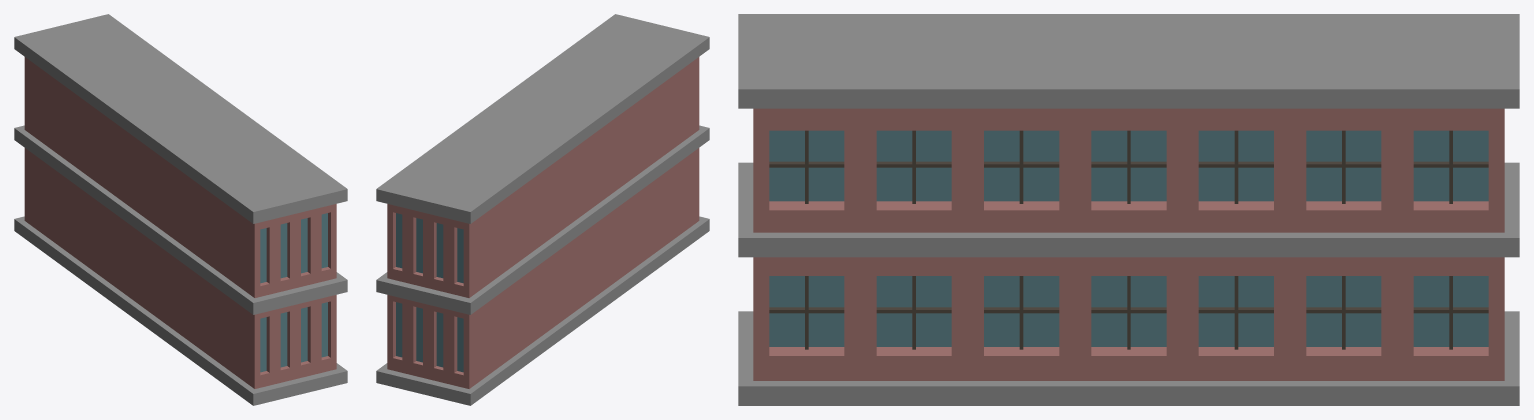
The model's file is Apartment4.fbx.
The picture shows the model from 3 angles, left to right: view 1: azimuth 30°, elevation 25°; view 2: azimuth 150°, elevation 25°; view 3: azimuth 270°, elevation 25°; orthographic projection. The views are drawn at different scales.
Visible parts, largest first — view 1: Apartment4; view 2: Apartment4; view 3: Apartment4.
Boxes of the visible parts, left/top/right/bottom form: Apartment4: left=14, top=14, right=347, bottom=405; Apartment4: left=376, top=14, right=709, bottom=405; Apartment4: left=738, top=14, right=1519, bottom=405.
Size of the model in its own units: 231 by 453 by 1013.
